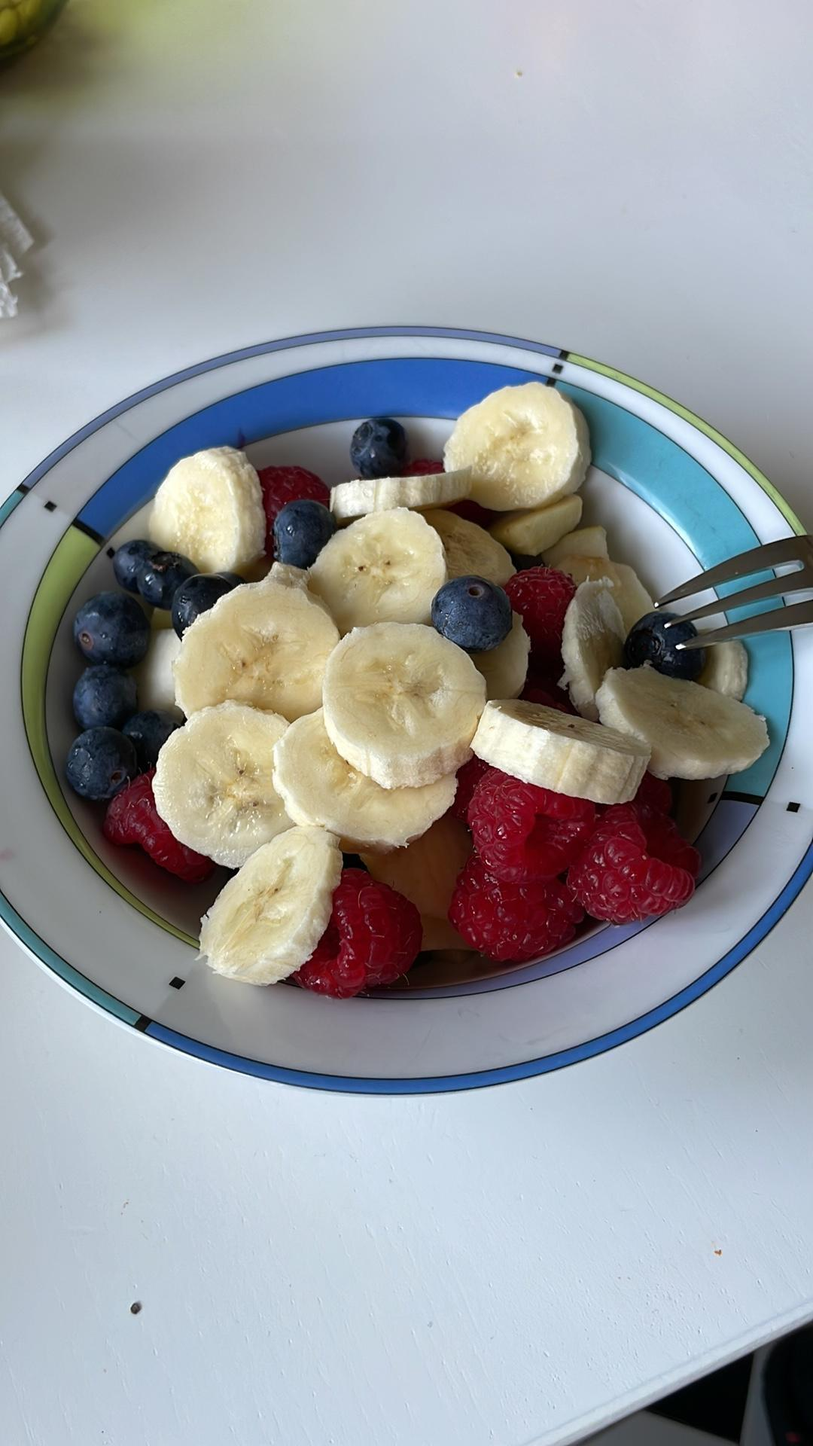banana: (282, 712, 443, 851), (152, 702, 299, 848), (194, 844, 347, 975), (465, 683, 629, 800), (169, 576, 322, 700), (333, 619, 463, 759), (442, 375, 576, 503), (602, 676, 787, 766), (134, 446, 260, 577), (559, 571, 668, 693), (331, 514, 444, 625), (469, 491, 600, 554), (327, 474, 486, 523), (433, 527, 519, 584)
blueberry: (55, 746, 151, 812), (438, 574, 516, 646), (60, 674, 162, 727), (77, 591, 137, 665), (627, 608, 694, 672), (346, 410, 410, 463), (169, 572, 213, 629), (111, 542, 162, 591)
raspberry: (305, 864, 424, 983), (576, 801, 689, 915), (435, 863, 551, 966), (100, 781, 204, 889), (469, 772, 559, 862), (512, 552, 571, 638), (254, 464, 309, 529)
